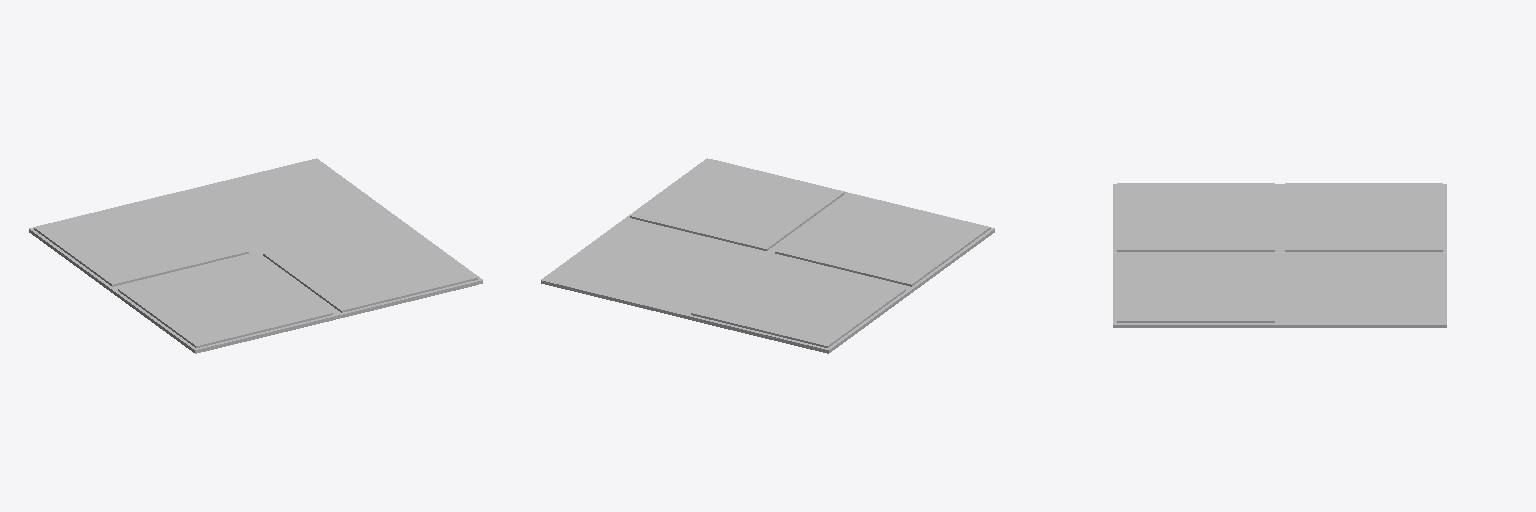
File: floor_hole_piece.obj
The picture shows the model from 3 angles: view 1: azimuth 30°, elevation 25°; view 2: azimuth 150°, elevation 25°; view 3: azimuth 270°, elevation 25°; orthographic projection.
Visible parts, largest first — view 1: polySurface6; view 2: polySurface6; view 3: polySurface6.
Boxes of the visible parts, x1,y1,x2,y2 form: polySurface6: [29, 158, 482, 353]; polySurface6: [541, 158, 994, 353]; polySurface6: [1113, 183, 1446, 327].
Bounding box in the file's own units: 56.45 × 1.39 × 56.46.